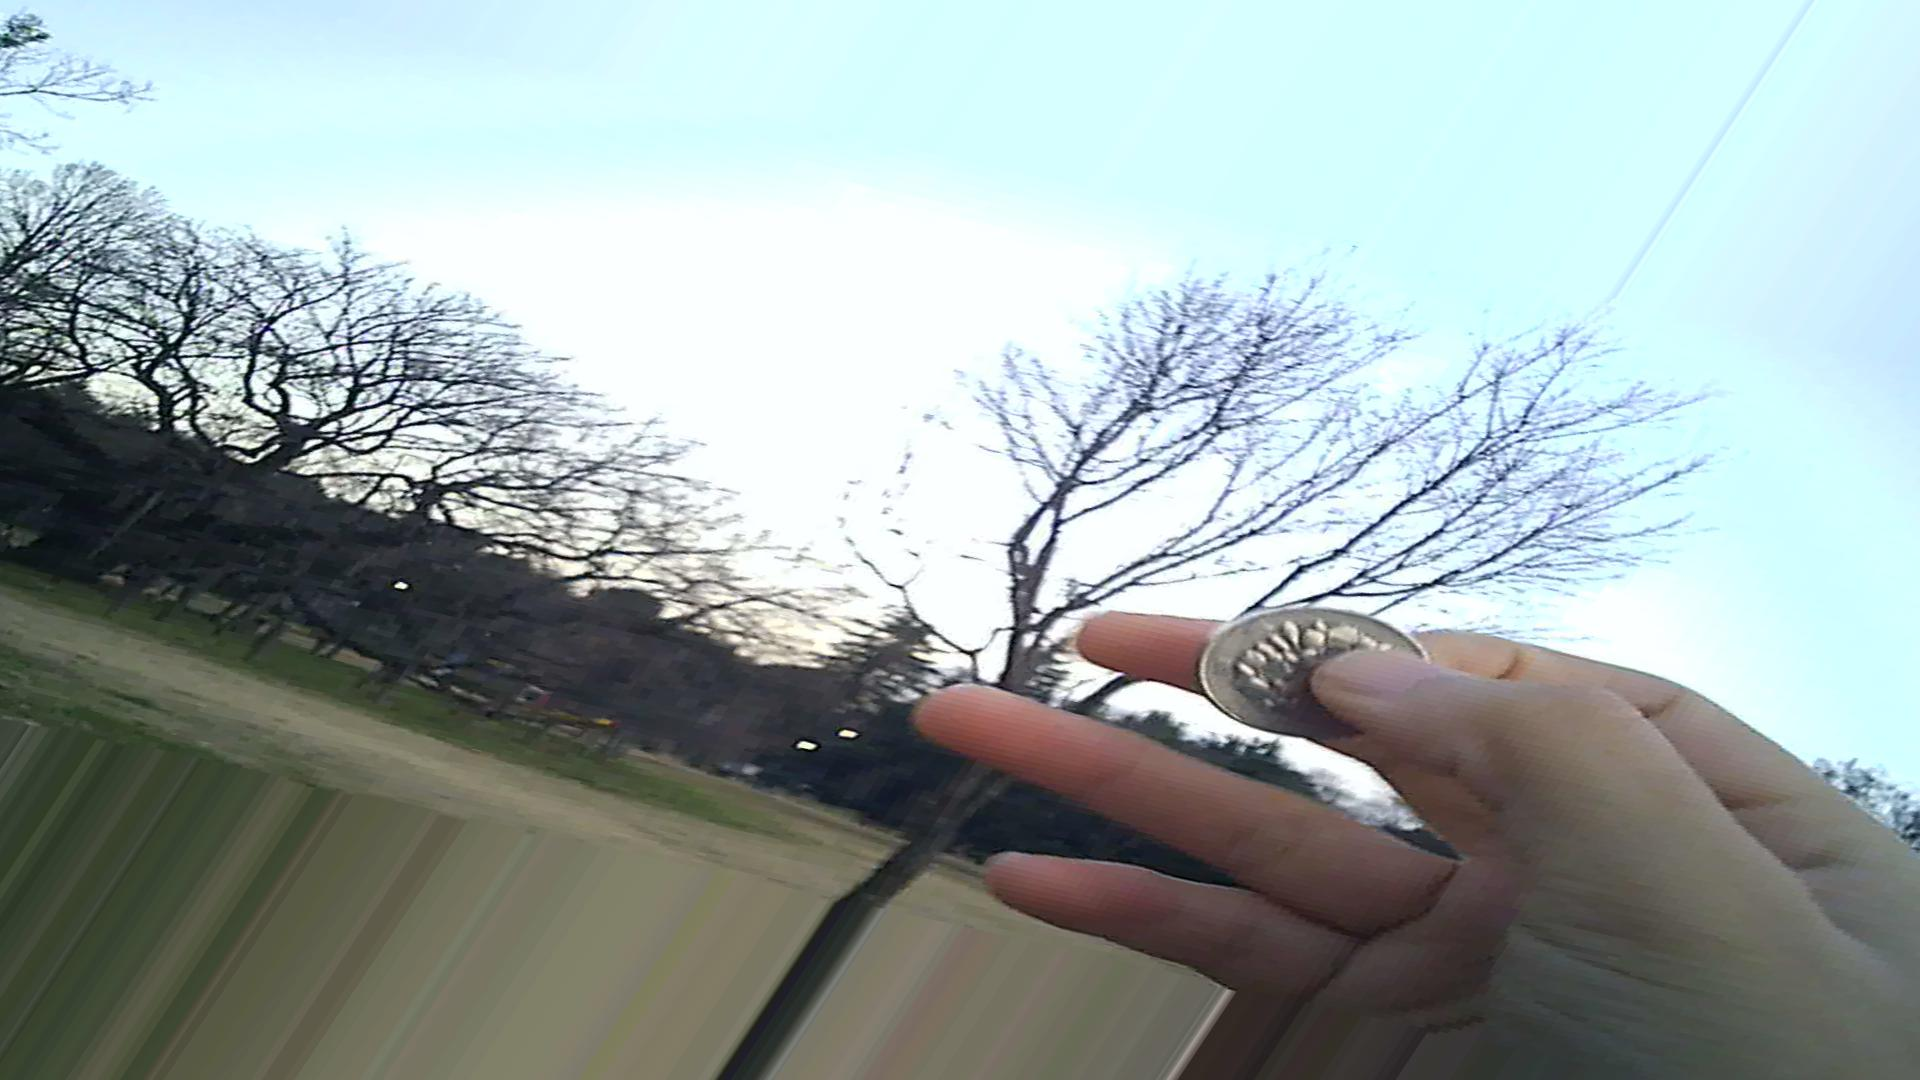100 Yen: (1201, 589, 1414, 742)
